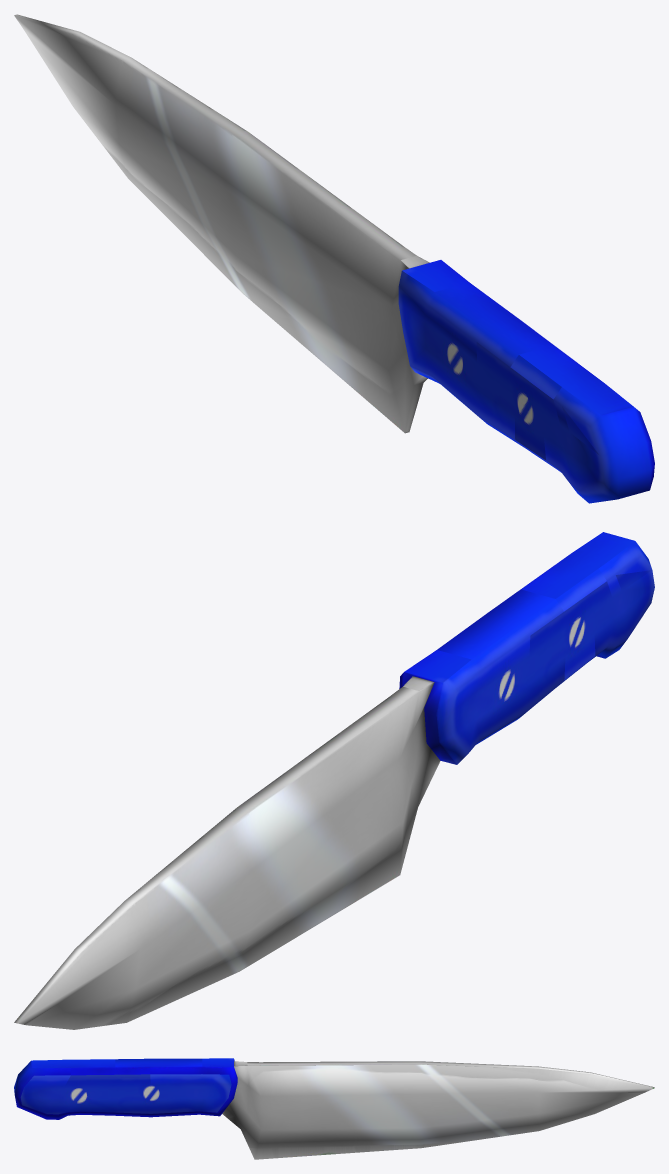
File: Knife.fbx
3 views of the same model, one above another, from view 1: azimuth 30°, elevation 25°; view 2: azimuth 150°, elevation 25°; view 3: azimuth 270°, elevation 25° (orthographic). The views are drawn at different scales.
Visible parts, largest first — view 1: Knife; view 2: Knife; view 3: Knife.
Boxes of the visible parts, left/top/right/bottom form: Knife: left=14, top=14, right=654, bottom=503; Knife: left=14, top=532, right=654, bottom=1029; Knife: left=14, top=1058, right=654, bottom=1159.
Size of the model in its own units: 9.59 by 27.93 by 170.
